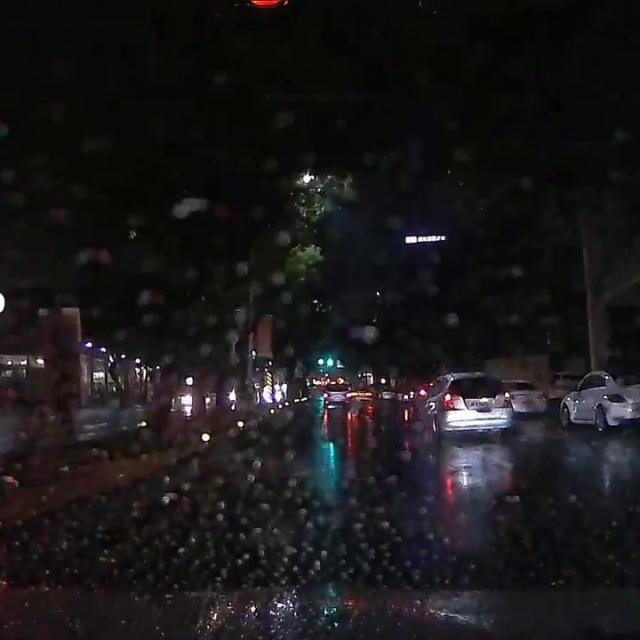Car: (408, 370, 515, 440), (555, 369, 639, 434), (496, 376, 546, 419), (319, 377, 353, 410), (344, 383, 376, 409)
